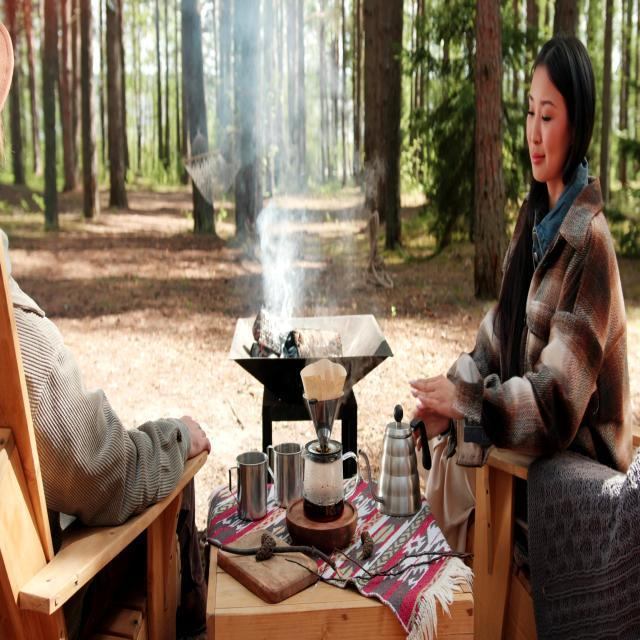Smoke: (172, 0, 374, 343)
